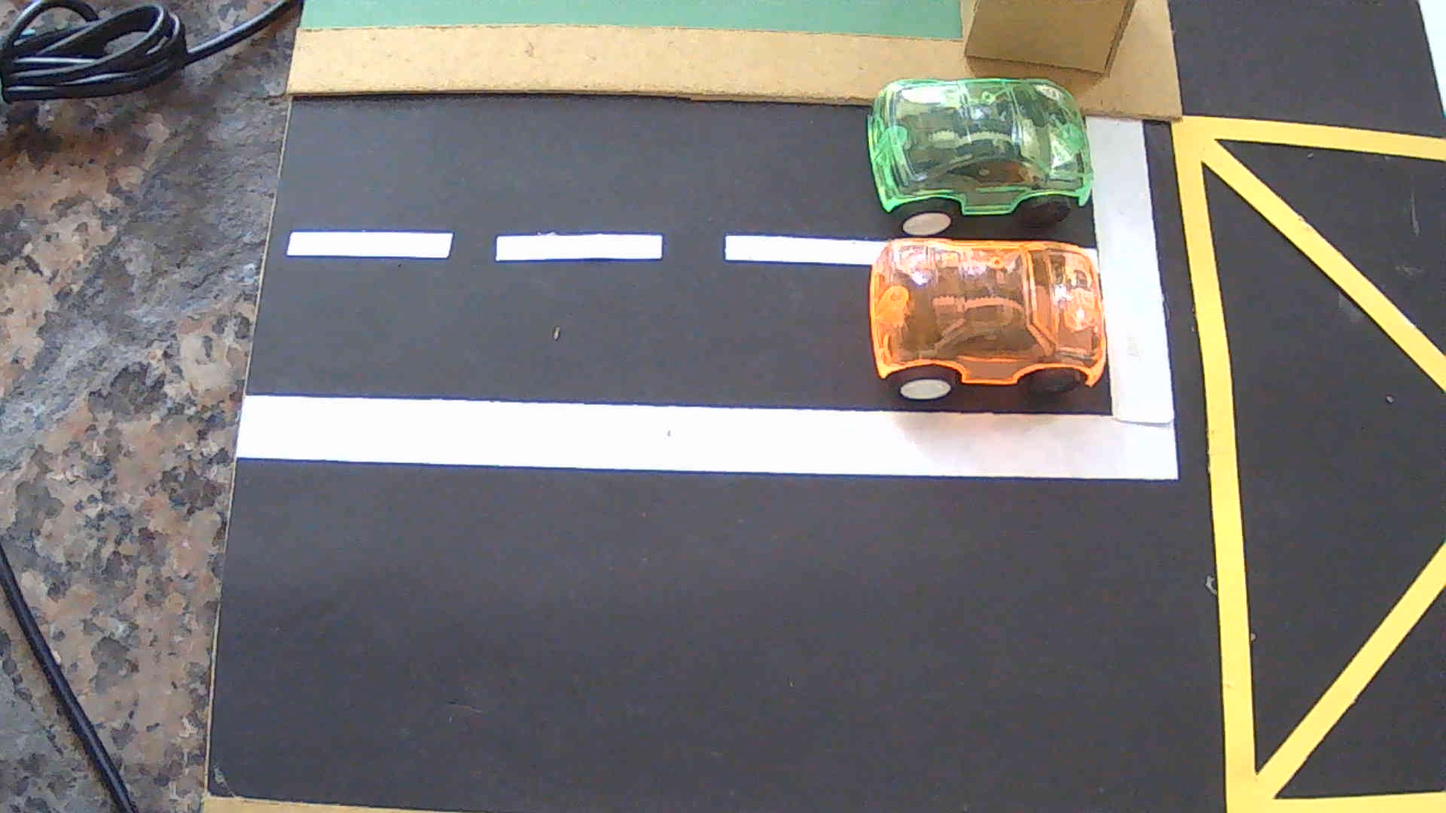Mobil hijau: (867, 78, 1094, 236)
Mobil orange: (868, 239, 1106, 400)
